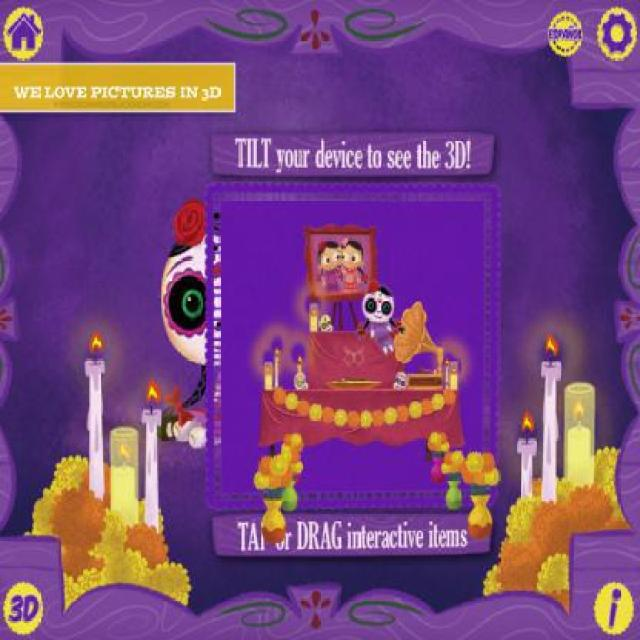Person: (339, 237, 367, 291), (316, 241, 341, 293)
